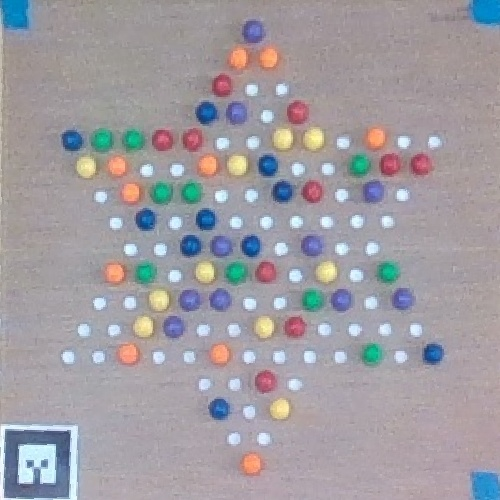blue: (210, 397, 230, 420), (197, 207, 216, 231), (196, 101, 217, 122), (61, 130, 82, 151), (136, 208, 155, 231), (423, 343, 443, 364), (181, 235, 200, 257), (259, 153, 277, 176), (274, 179, 292, 202), (242, 235, 260, 257)
empty_peg: (256, 430, 273, 446), (365, 240, 381, 256), (381, 213, 396, 230), (337, 133, 352, 149), (427, 133, 442, 149), (316, 321, 332, 336), (60, 347, 74, 364), (228, 375, 242, 392), (289, 375, 302, 393), (349, 213, 364, 228), (168, 267, 183, 282), (349, 267, 364, 282), (347, 322, 362, 337), (153, 241, 167, 257), (93, 294, 107, 310), (363, 293, 377, 309), (91, 349, 107, 363), (243, 405, 257, 421), (226, 431, 242, 445), (272, 347, 284, 365), (245, 81, 259, 96), (170, 161, 184, 176), (291, 161, 306, 175), (245, 187, 259, 202), (336, 187, 350, 202), (260, 215, 274, 230), (320, 214, 334, 229), (197, 322, 212, 336), (226, 322, 241, 336), (334, 350, 348, 365), (198, 376, 212, 391), (152, 349, 165, 365), (395, 349, 408, 365), (260, 108, 274, 122), (246, 135, 260, 149), (93, 189, 107, 203), (395, 186, 409, 200), (123, 241, 137, 255), (398, 133, 411, 148), (335, 240, 348, 255), (243, 295, 256, 310), (105, 323, 120, 336), (275, 82, 289, 95), (215, 136, 229, 149), (140, 163, 154, 176), (321, 160, 334, 174), (214, 188, 228, 201), (288, 268, 302, 281), (378, 321, 391, 335), (184, 349, 196, 364), (243, 349, 255, 364), (170, 216, 183, 229), (290, 215, 303, 228), (230, 215, 242, 229), (274, 242, 288, 254), (123, 295, 135, 309), (274, 294, 286, 308), (410, 322, 422, 336), (79, 322, 90, 337), (305, 349, 316, 363), (110, 216, 122, 228)
green: (91, 127, 113, 151), (151, 180, 173, 204), (136, 261, 158, 285), (181, 179, 202, 203), (225, 260, 247, 282), (377, 260, 399, 282), (362, 342, 383, 365), (303, 289, 325, 310), (123, 127, 143, 150)
orange: (240, 452, 261, 478), (198, 153, 219, 174), (209, 343, 230, 364), (104, 261, 124, 283), (364, 126, 384, 147), (120, 181, 140, 202), (119, 343, 138, 365), (229, 48, 248, 68), (260, 47, 278, 68), (109, 157, 125, 175)
purple: (364, 179, 384, 203), (243, 20, 264, 42), (332, 288, 353, 310), (394, 288, 415, 309), (209, 288, 230, 309), (226, 101, 246, 123), (163, 315, 183, 337), (180, 290, 199, 311), (211, 235, 231, 254), (302, 235, 321, 253)
red: (302, 178, 324, 202), (287, 100, 309, 123), (285, 315, 307, 338), (181, 130, 204, 150), (411, 155, 432, 176), (380, 153, 400, 175), (153, 130, 173, 150), (256, 259, 275, 280), (257, 371, 276, 392), (213, 74, 231, 94)
yellow: (303, 126, 325, 151), (315, 259, 336, 285), (253, 315, 275, 339), (227, 153, 247, 176), (134, 316, 154, 338), (274, 127, 292, 151), (149, 289, 169, 310), (270, 397, 290, 418), (77, 156, 96, 178), (195, 263, 214, 281)
